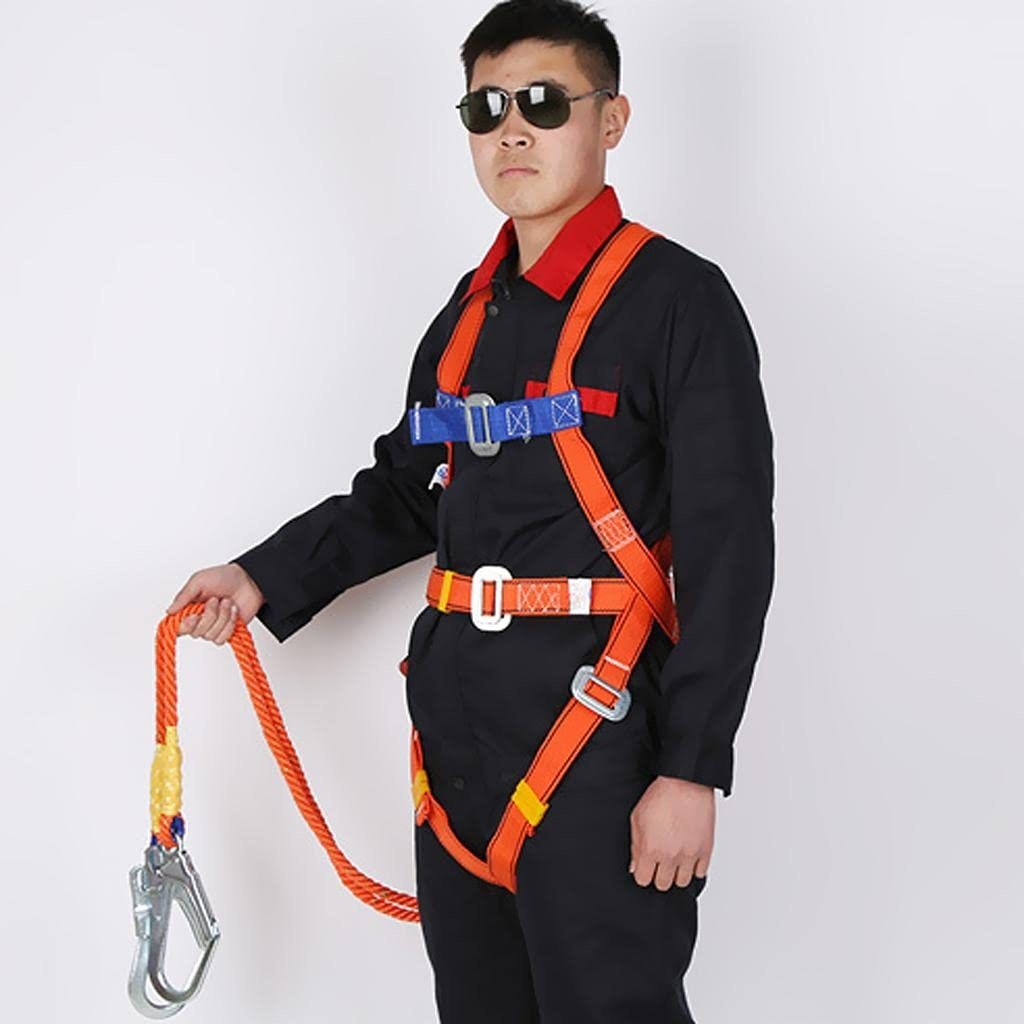No_goggles: (457, 71, 595, 132)
No_helmet: (458, 0, 620, 80)
Person: (403, 0, 725, 1024)
Safety_Harness: (124, 215, 685, 1024)
